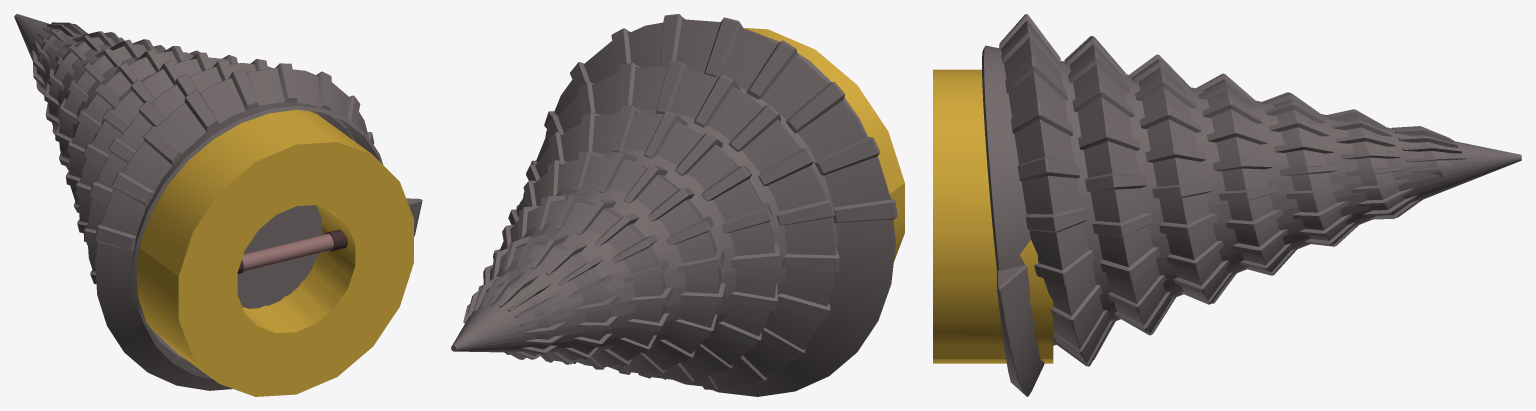
File: Drill_Custom(Handled).fbx
3 views of the same model, side by side, from view 1: azimuth 30°, elevation 25°; view 2: azimuth 150°, elevation 25°; view 3: azimuth 270°, elevation 25° (orthographic). The views are drawn at different scales.
Parts seen in each view (by area): view 1: Donut, model_1_Mesh1, Cylinder__1_, Cylinder__1__1; view 2: model_1_Mesh1, Donut; view 3: model_1_Mesh1, Donut.
Boxes of the visible parts, <box> form: Donut: <box>136,109,413,396</box>; model_1_Mesh1: <box>14,14,422,390</box>; Cylinder__1_: <box>237,205,322,308</box>; Cylinder__1__1: <box>242,233,333,271</box>; model_1_Mesh1: <box>451,14,897,396</box>; Donut: <box>743,28,904,261</box>; model_1_Mesh1: <box>982,14,1521,396</box>; Donut: <box>933,69,1053,363</box>.
Size of the model in its own units: 646 by 633 by 981.
